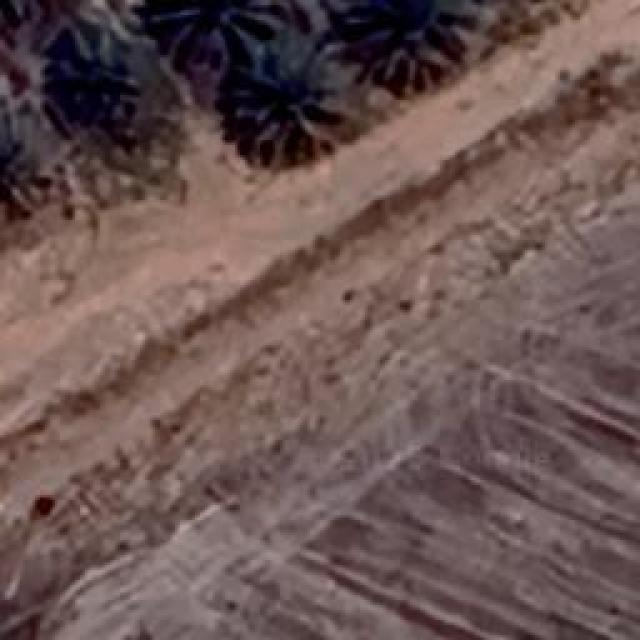PalmTree: (228, 42, 362, 162), (348, 0, 490, 95), (155, 0, 283, 60), (22, 80, 105, 166), (0, 0, 67, 29)
